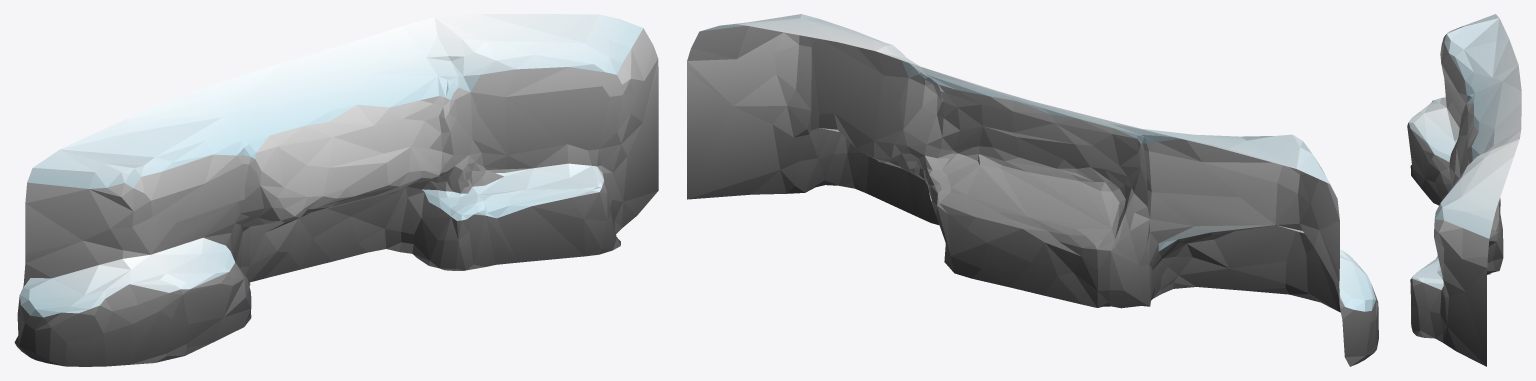
The model's file is Cliff_1.FBX.
The picture shows the model from 3 angles, left to right: view 1: azimuth 30°, elevation 25°; view 2: azimuth 150°, elevation 25°; view 3: azimuth 270°, elevation 25°; orthographic projection. The views are drawn at different scales.
Parts seen in each view (by area): view 1: Cliff_1; view 2: Cliff_1; view 3: Cliff_1.
Part boxes in pixels (x1=…): Cliff_1: x1=14, y1=14, x2=658, y2=366; Cliff_1: x1=687, y1=14, x2=1378, y2=366; Cliff_1: x1=1407, y1=14, x2=1521, y2=366.
Size of the model in its own units: 145 by 44.59 by 29.96.
